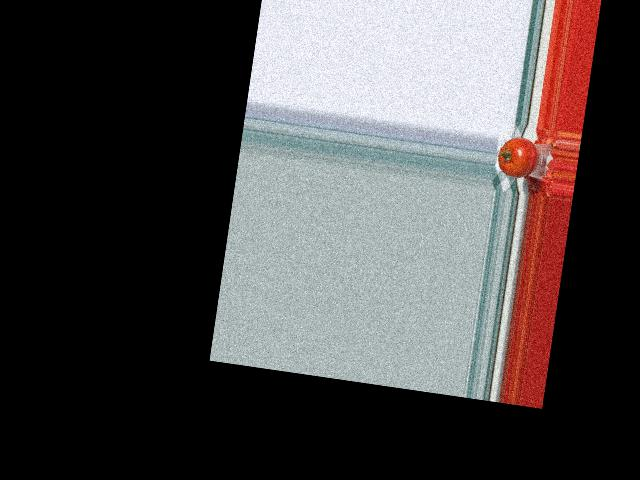tomato: (495, 133, 540, 180)
